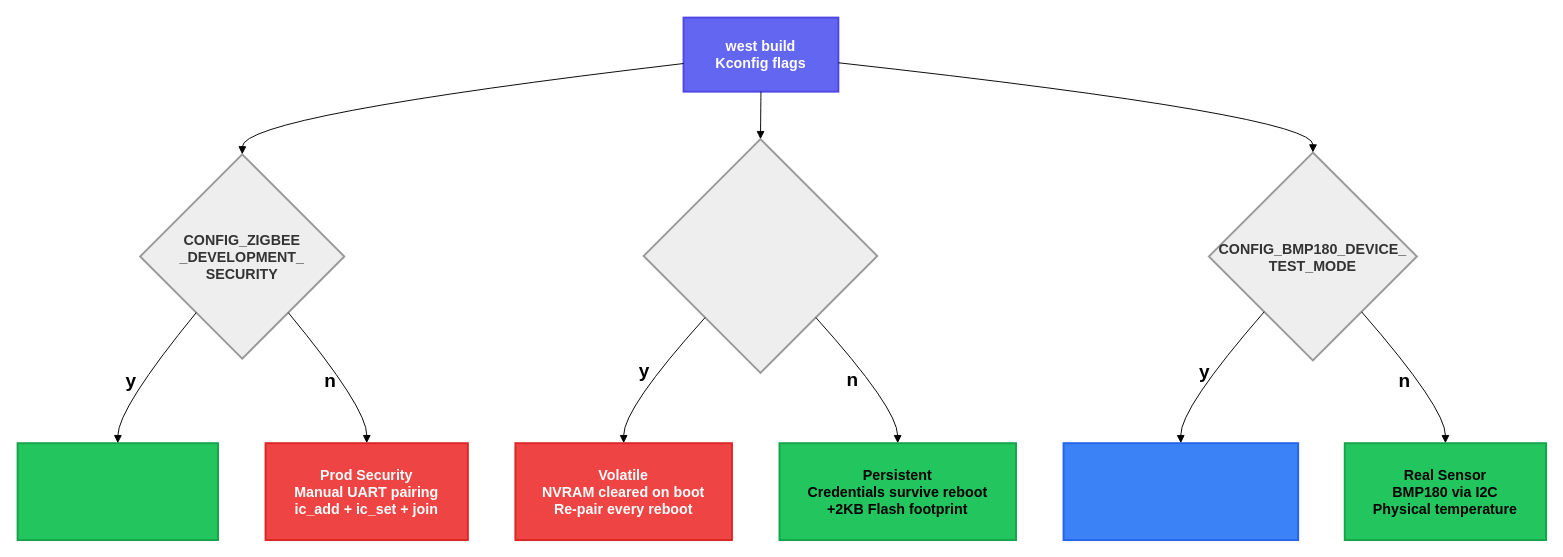
Some shapes in this 1563 by 557 pixel diagram are drawn without their labels. The box of each missing label's shape, as (x1, y1, x2, y2) in pixels:
CONFIG_ZIGBEE_RESET_ PERSISTENT_CONFIG: (642, 138, 878, 373)
Dev Security Static IC auto-loaded Auto-join at boot: (16, 442, 218, 541)
Mock Mode Bypass I2C init Sequence: 20.0°C + 0.5°C: (1062, 442, 1299, 541)
